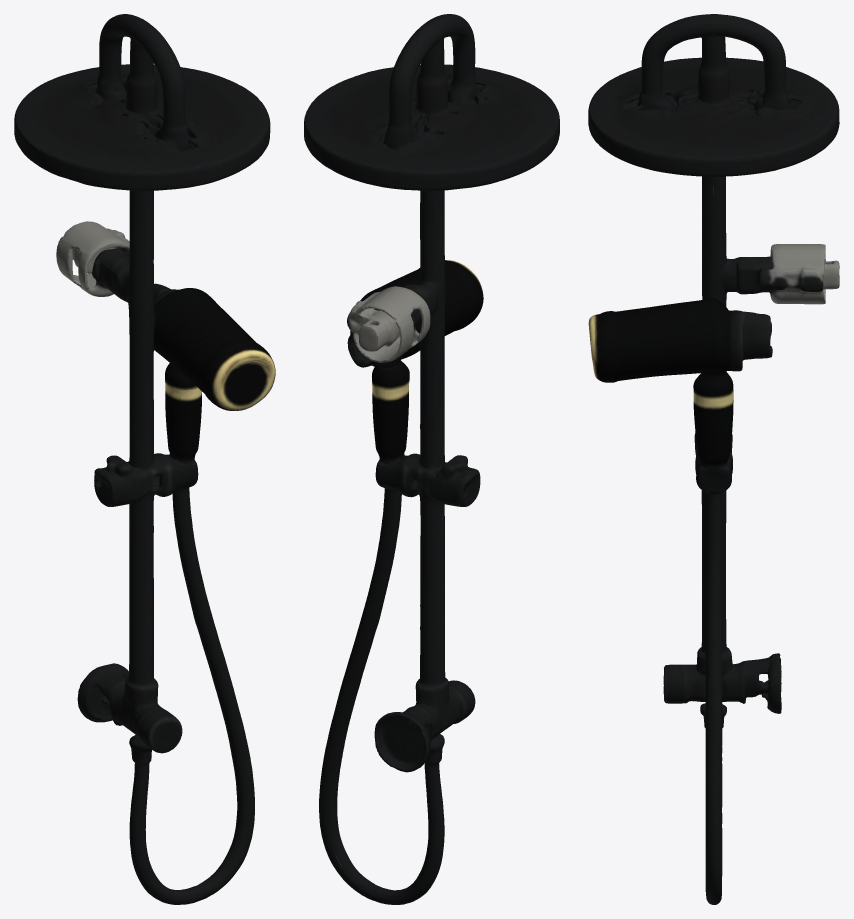
The model's file is item_723227d0.glb.
3 renders of one model, left to right at view 1: azimuth 30°, elevation 25°; view 2: azimuth 150°, elevation 25°; view 3: azimuth 270°, elevation 25°, orthographic. The views are drawn at different scales.
Visible parts, largest first — view 1: world; view 2: world; view 3: world.
Part boxes in pixels (x1,y1,x2,y2): world: [14, 14, 275, 904]; world: [304, 14, 559, 904]; world: [588, 14, 839, 904].
Size of the model in its own units: 0.2465 by 0.95 by 0.2515.
1 material, 1 textured.
